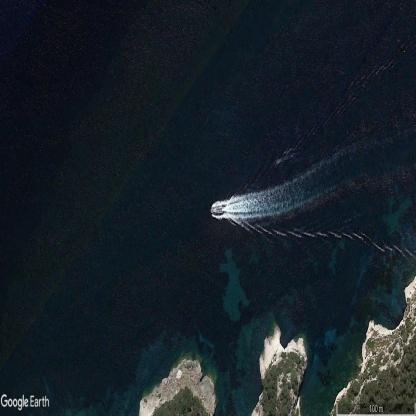ship: (211, 208, 221, 214)
